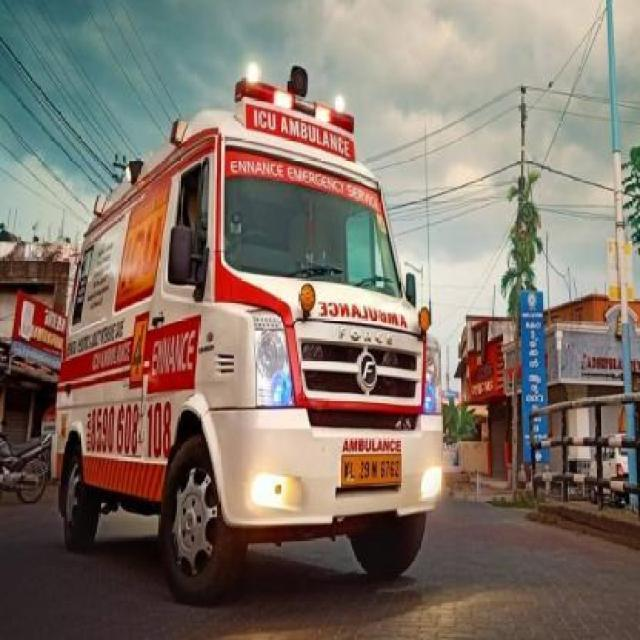Ambulance: (48, 61, 450, 606), (0, 472, 638, 638)
